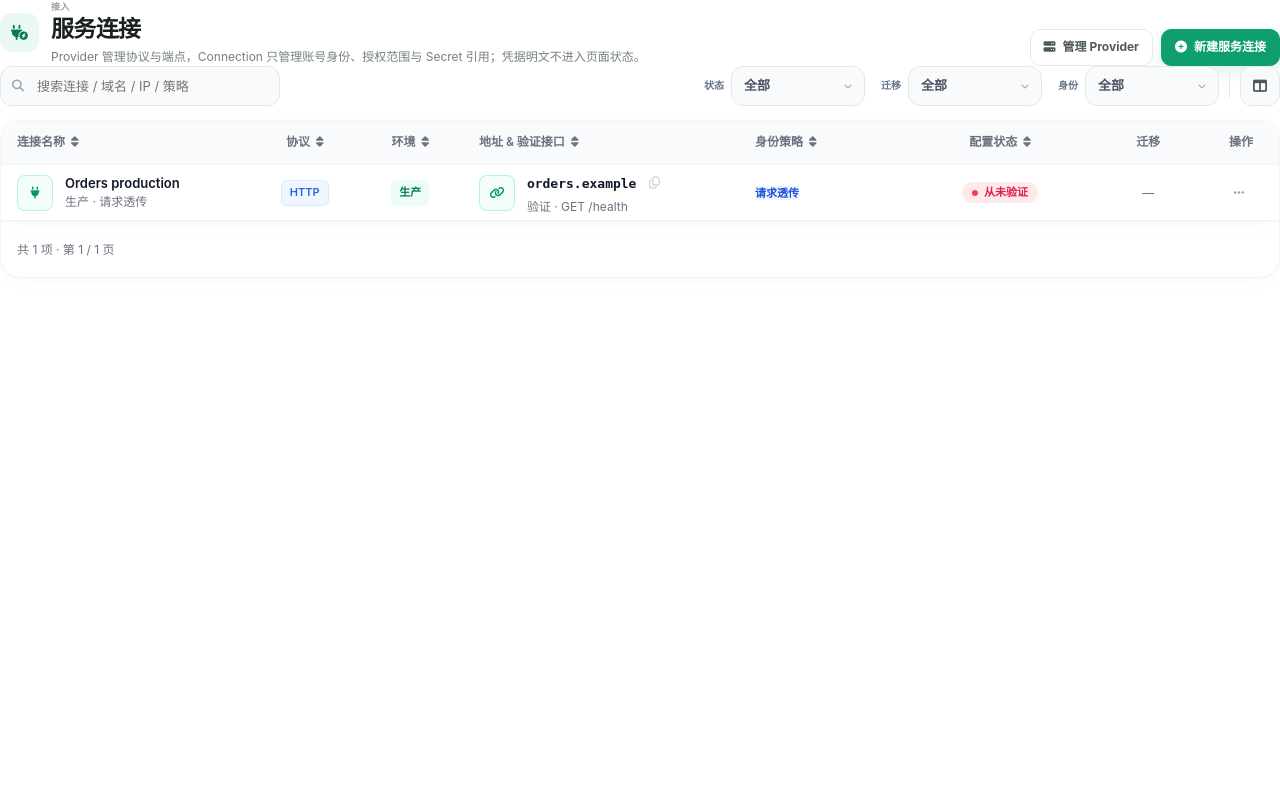
Test case: service connections v1 behavior › lets a new Connection choose Broker/OBO instead of the default passthrough mode
This screenshot has width=1280, height=800.
Click the button "新建服务连接" at (1220, 47), box [1161, 29, 1279, 66]
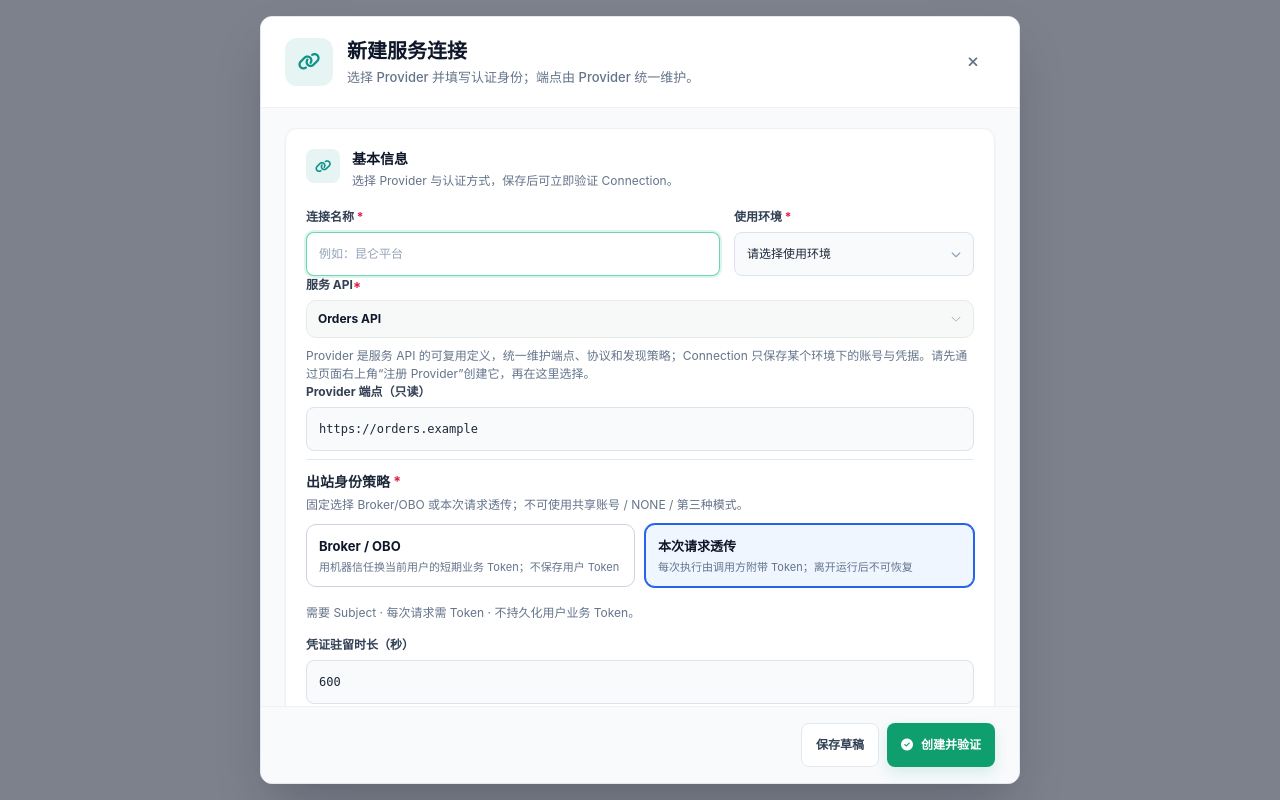
Click the radio button with test id "outbound-mode-BROKER_OBO" at (360, 546), box [306, 524, 635, 587]
(page scrolled)
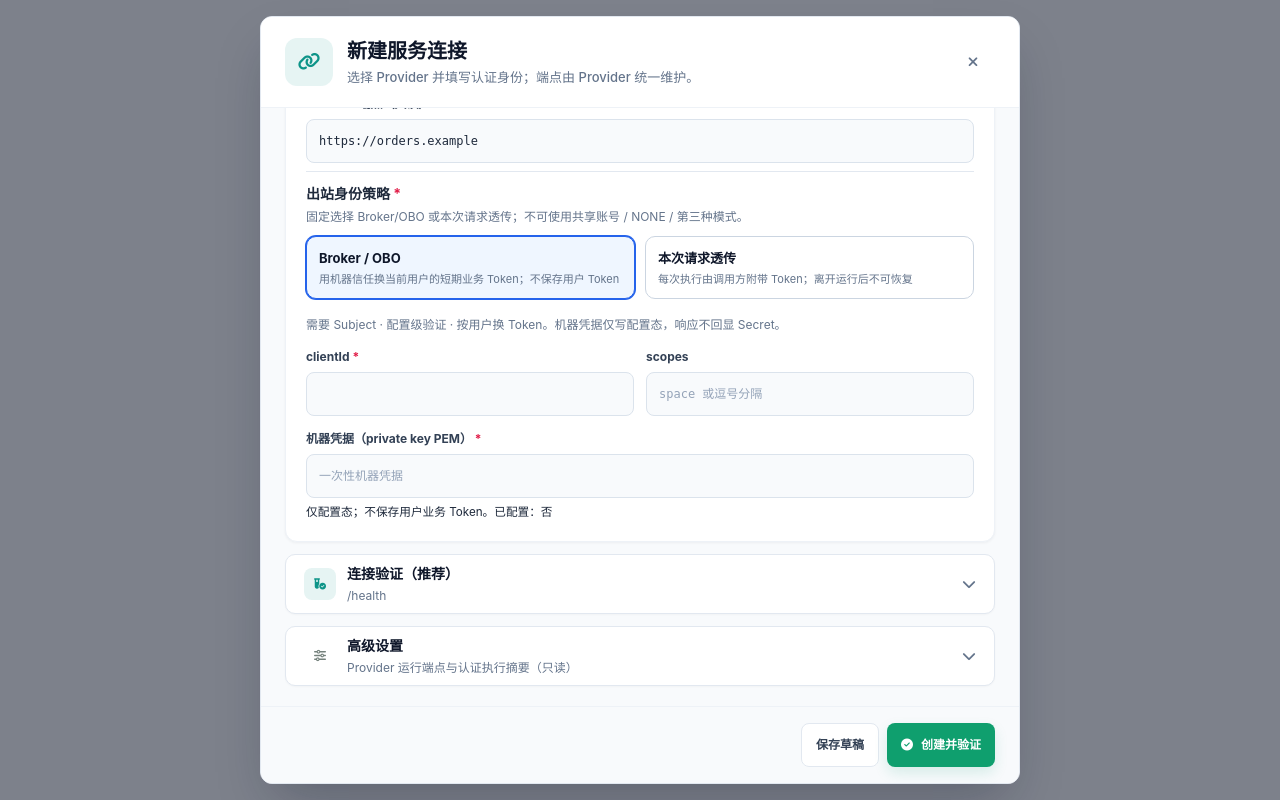
Expected: the element with test id "outbound-broker-fields" is shown, [306, 313, 974, 521]
